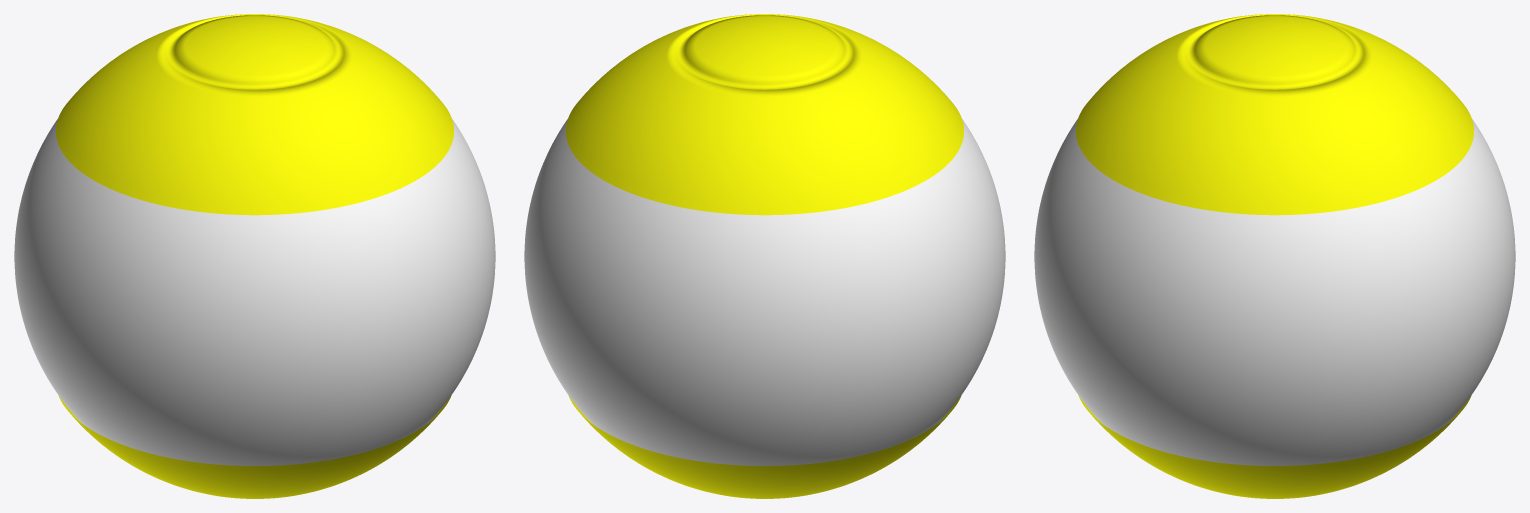
File: AmiboLife.fbx
3 renders of one model, left to right at view 1: azimuth 30°, elevation 25°; view 2: azimuth 150°, elevation 25°; view 3: azimuth 270°, elevation 25°, orthographic.
Visible parts, largest first — view 1: Capsule, Capsule_Cap; view 2: Capsule, Capsule_Cap; view 3: Capsule, Capsule_Cap.
Boxes of the visible parts, bbox=[...] form: Capsule: bbox=[14, 119, 495, 465]; Capsule_Cap: bbox=[56, 14, 453, 498]; Capsule: bbox=[524, 119, 1005, 465]; Capsule_Cap: bbox=[566, 14, 963, 498]; Capsule: bbox=[1034, 119, 1515, 465]; Capsule_Cap: bbox=[1076, 14, 1473, 498].
Bounding box in the file's own units: 117 × 118 × 117.
